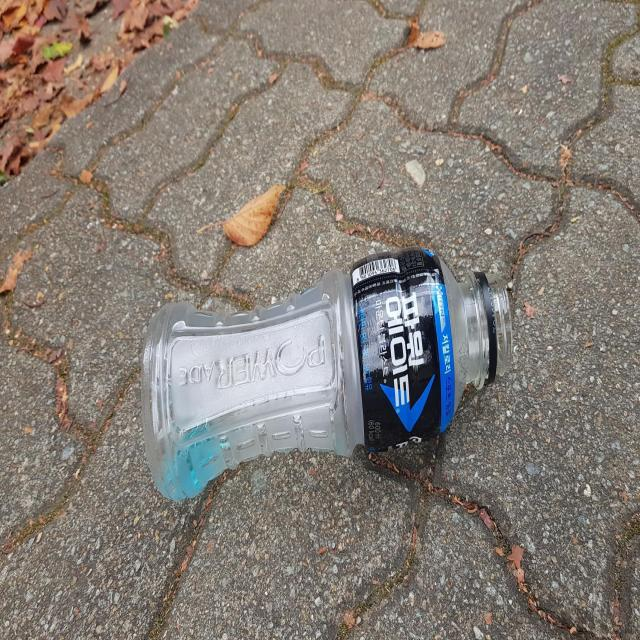plastic: (142, 247, 513, 501)
